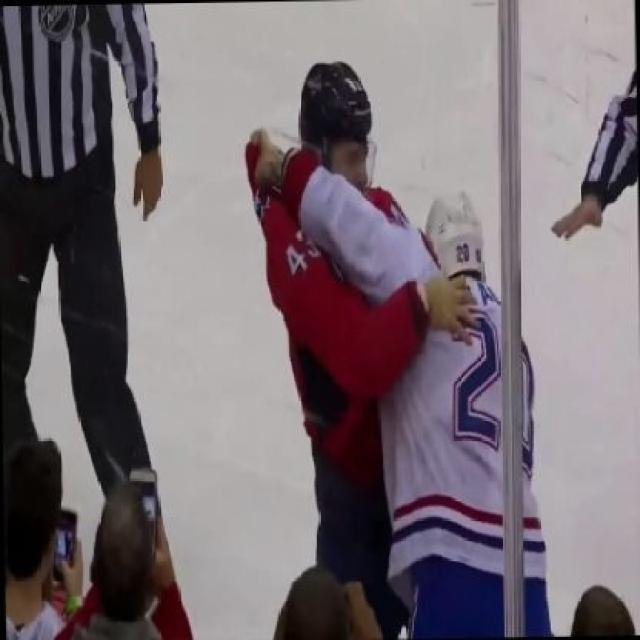fight: (200, 31, 583, 638)
non-fight: (0, 0, 217, 638)
